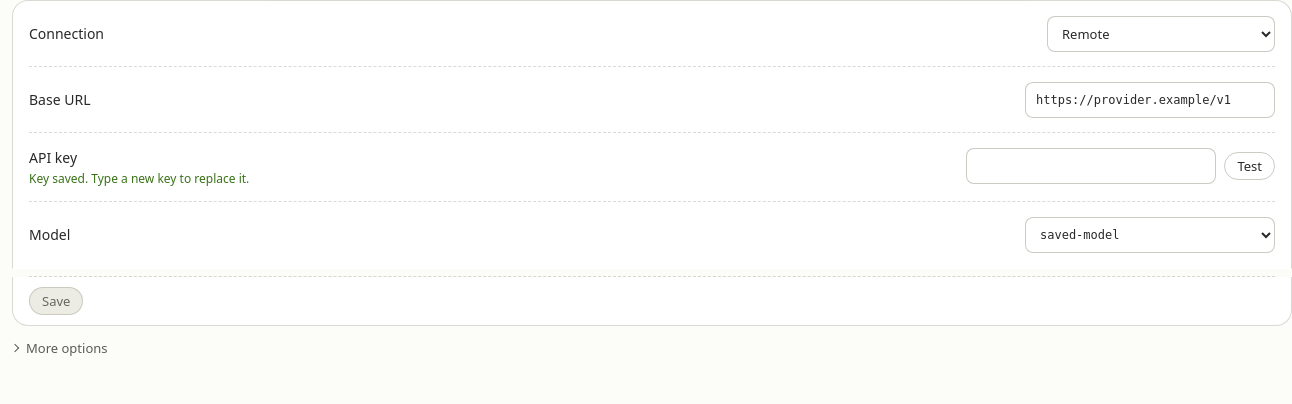
keeps a manual model after a failed test and blocks a stale destination
The width and height of the screenshot is (1292, 404).
Select "Other…" in the dropdown named "Model". click: (1150, 235)
box: x1=1025 y1=217 x2=1275 y2=253
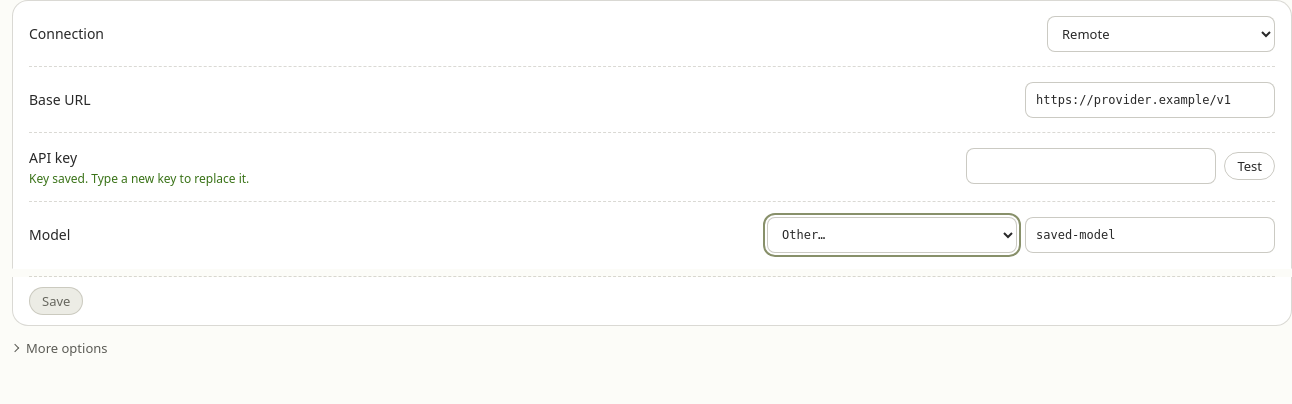
Replace the text in the field named "Model ID" with "manual-model". click: (1150, 235)
box: x1=1025 y1=217 x2=1275 y2=253
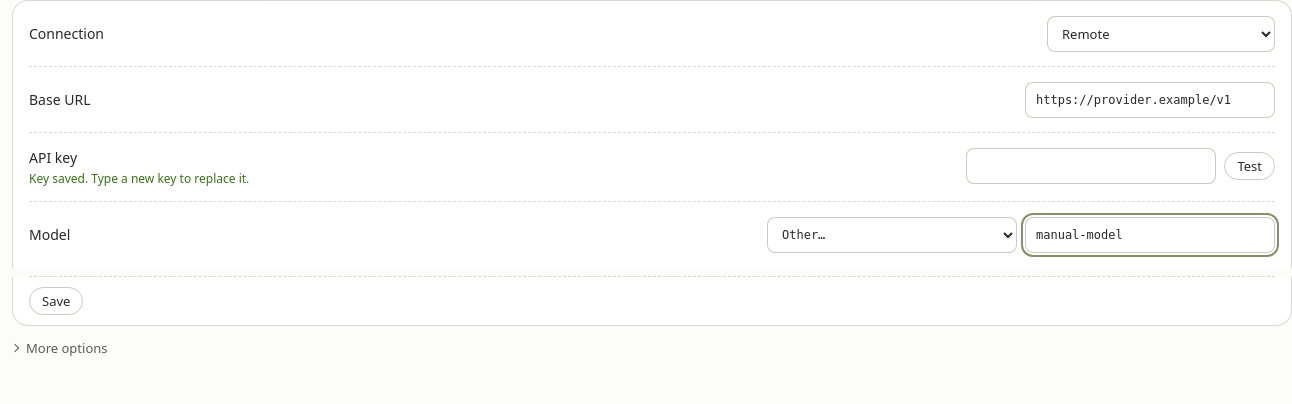
Click the button "Test". click: (1250, 166)
box: x1=1224 y1=152 x2=1275 y2=180
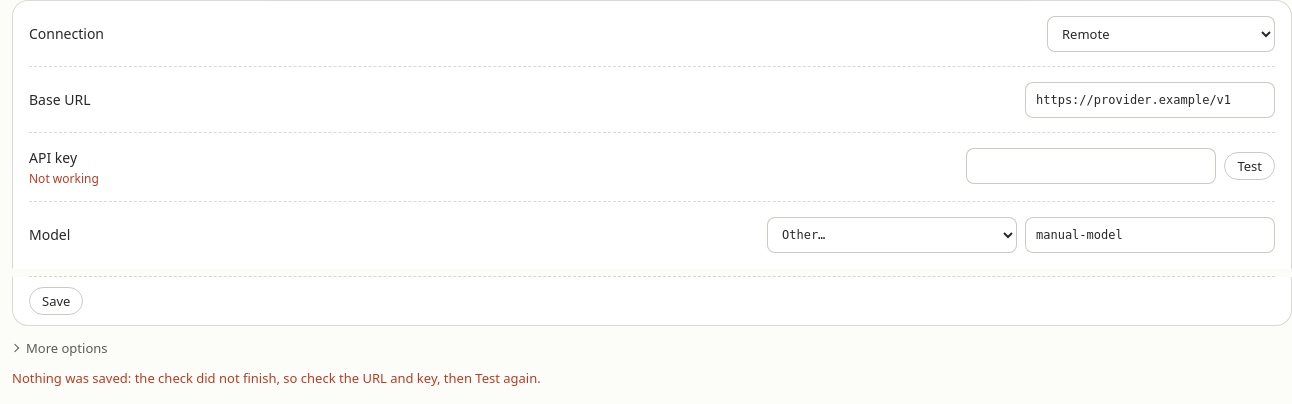
Expected: the text "Not working" is shown, x1=29 y1=170 x2=99 y2=187
Expected: the message shows "Nothing was saved: the check did not finish, so check the URL and key, then Test again.", x1=12 y1=369 x2=541 y2=387
Note: A URL that no longer matches the saved connection needs its own key first.
Type "/other" into the field named "Base URL". click: (1150, 100)
box: x1=1025 y1=82 x2=1275 y2=118
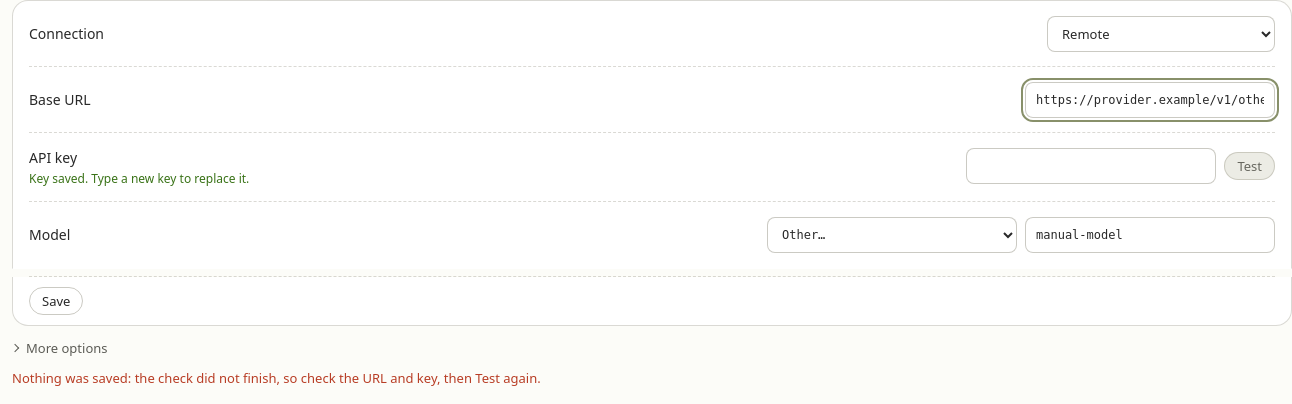
Expected: the button "Test" is disabled, x1=1224 y1=152 x2=1275 y2=180
